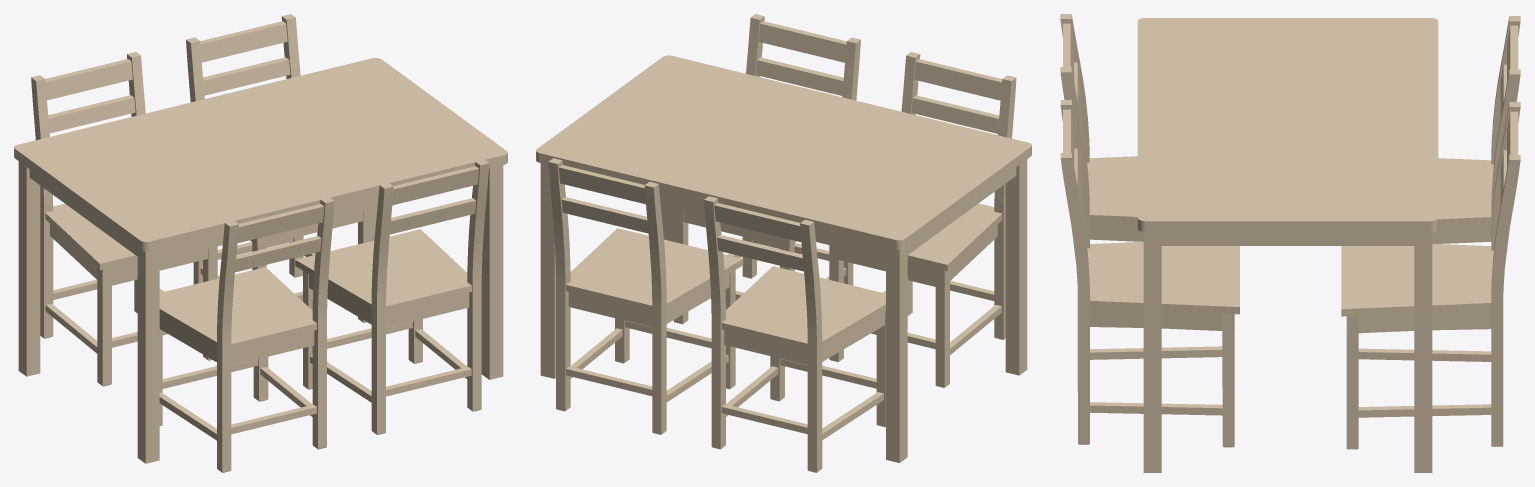
Rendered from 木製テーブル４人掛け.fbx.
3 views of the same model, side by side, from view 1: azimuth 30°, elevation 25°; view 2: azimuth 150°, elevation 25°; view 3: azimuth 270°, elevation 25° (orthographic). The views are drawn at different scales.
Parts seen in each view (by area): view 1: Body, chair3, chair4, chair1, chair2; view 2: Body, chair1, chair2, chair3, chair4; view 3: Body, chair2, chair4, chair1, chair3.
Part boxes in pixels (left/top/right/bottom): Body: left=14, top=58, right=507, bottom=463; chair3: left=159, top=197, right=334, bottom=472; chair4: left=295, top=159, right=489, bottom=434; chair1: left=31, top=52, right=217, bottom=386; chair2: left=186, top=14, right=372, bottom=322; Body: left=536, top=55, right=1031, bottom=462; chair1: left=704, top=196, right=885, bottom=472; chair2: left=548, top=158, right=743, bottom=434; chair3: left=829, top=52, right=1016, bottom=387; chair4: left=673, top=14, right=860, bottom=324; Body: left=1137, top=18, right=1438, bottom=472; chair2: left=1341, top=102, right=1520, bottom=449; chair4: left=1060, top=100, right=1239, bottom=447; chair1: left=1432, top=16, right=1520, bottom=330; chair3: left=1060, top=14, right=1143, bottom=327.
Size of the model in its own units: 120 by 79 by 115.
